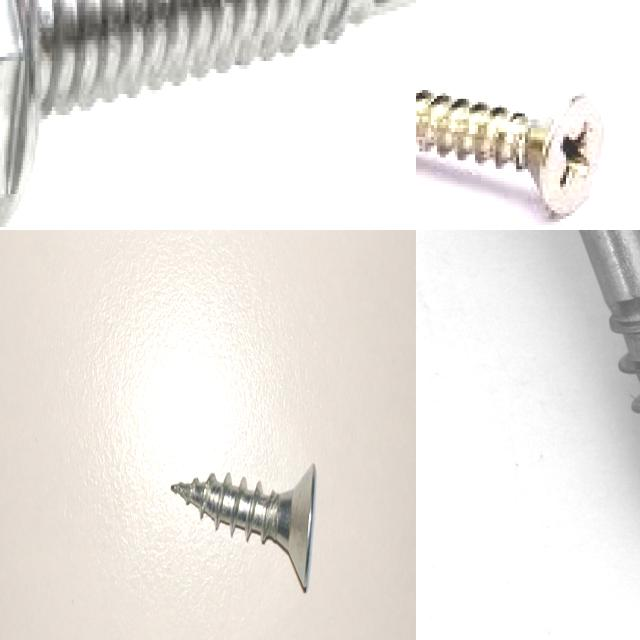Screw: (0, 0, 416, 225), (462, 230, 640, 633), (416, 92, 604, 219), (171, 464, 317, 591)
